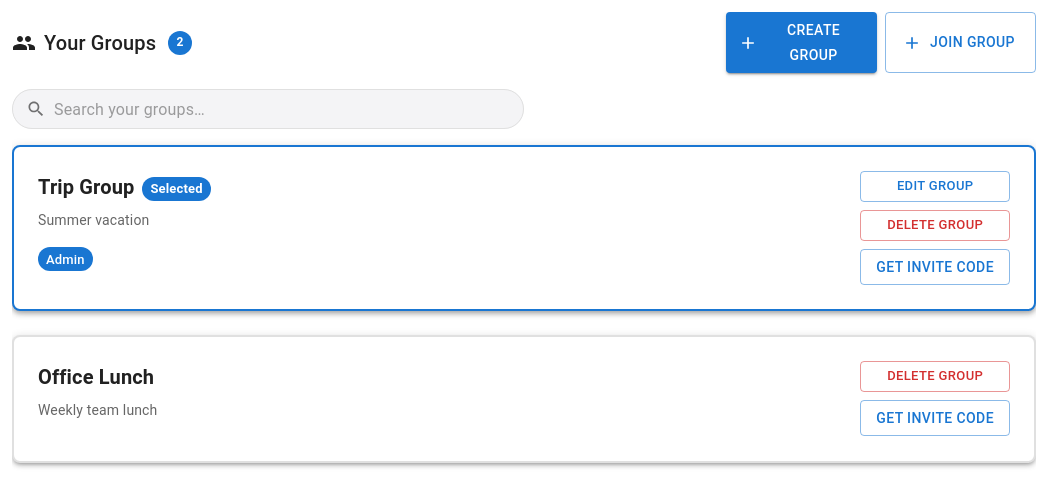
Test: GroupManagement - Core Functions › Group Search › should distinguish a zero-match search from having no groups
Click the field named "Search groups" at (266, 109), box 54,89 -> 478,129
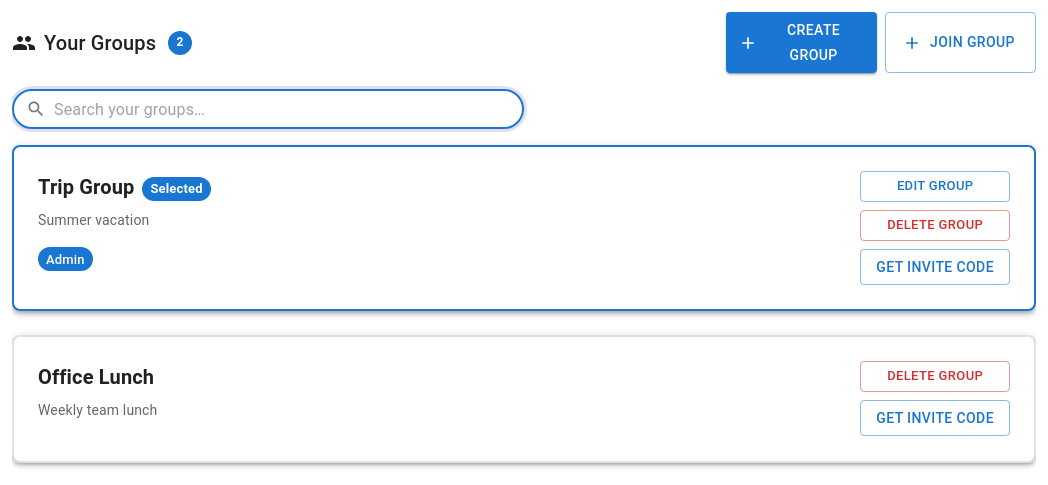
Type keys "zzzznotathing"
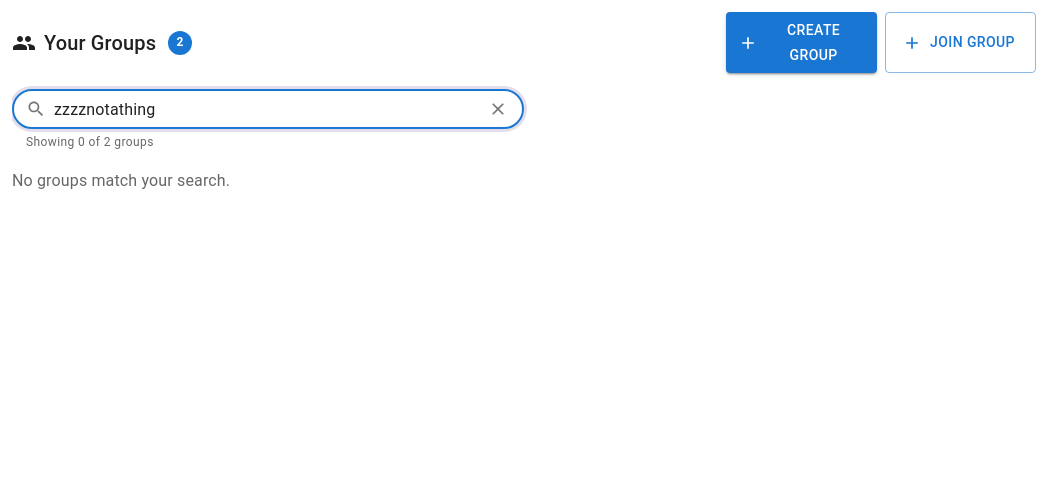
Result: the text "No groups match your search." is shown at 12,171 -> 230,190
